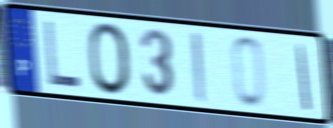0: (229, 33, 270, 111)
3: (138, 27, 175, 99)
I: (190, 30, 209, 105), (295, 41, 312, 114)
L: (42, 18, 83, 90)
O: (86, 20, 134, 98)
